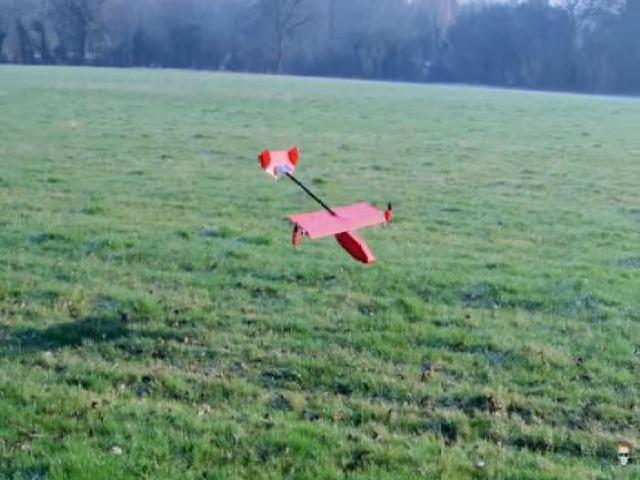uav: (254, 140, 380, 267)
